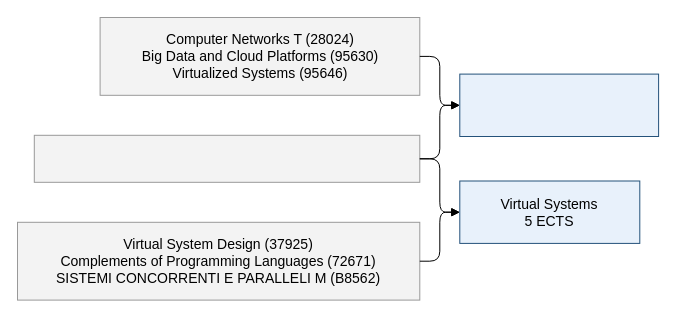
The diagram is 677 pixels wide and 318 high, and some of its shapes have lost their labels. The centre of each missing label's shape, as x and y in pixels:
"Distributed Storage 2 ECTS" belongs at (x=559, y=104).
"Virtualization and System Integration (96642)" belongs at (x=226, y=158).
